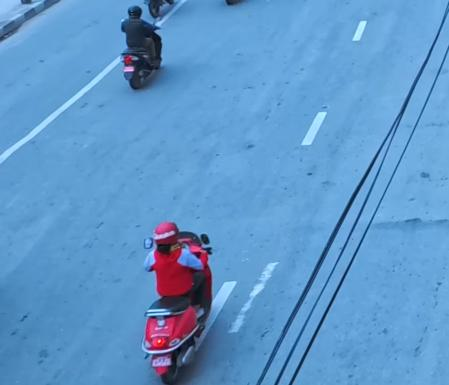scooter: (138, 232, 215, 381)
